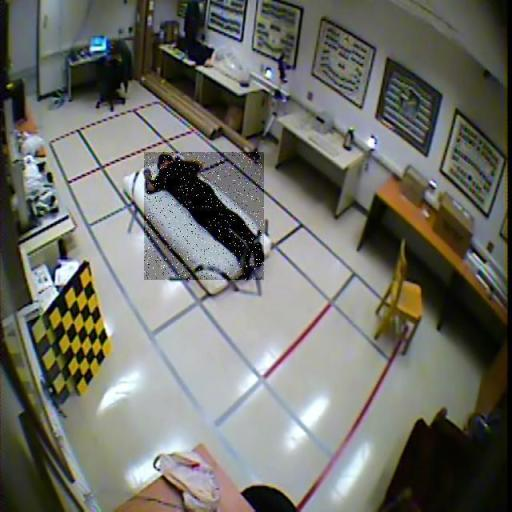Fall: (144, 153, 264, 281)
